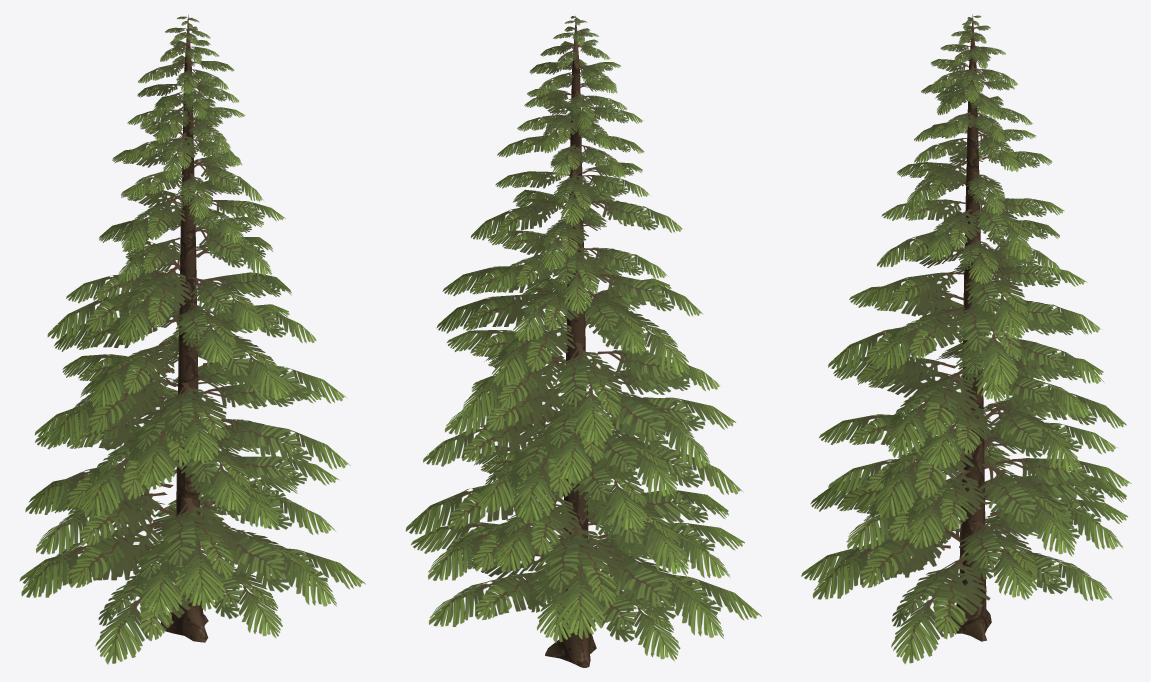
3 renders of one model, left to right at view 1: azimuth 30°, elevation 25°; view 2: azimuth 150°, elevation 25°; view 3: azimuth 270°, elevation 25°, orthographic. The views are drawn at different scales.
Parts seen in each view (by area): view 1: SM_TreePineFluffyBigUpper_001, SM_TreePineFluffyBigBase_001; view 2: SM_TreePineFluffyBigUpper_001, SM_TreePineFluffyBigBase_001; view 3: SM_TreePineFluffyBigUpper_001, SM_TreePineFluffyBigBase_001.
Boxes of the visible parts, <box> form: SM_TreePineFluffyBigUpper_001: <box>19,15,365,664</box>; SM_TreePineFluffyBigBase_001: <box>161,567,208,642</box>; SM_TreePineFluffyBigUpper_001: <box>405,16,761,660</box>; SM_TreePineFluffyBigBase_001: <box>545,589,596,667</box>; SM_TreePineFluffyBigUpper_001: <box>801,14,1131,663</box>; SM_TreePineFluffyBigBase_001: <box>943,556,991,641</box>.
Size of the model in its own units: 4 by 7.71 by 3.87.
Materials: 2 (2 with a texture image).
